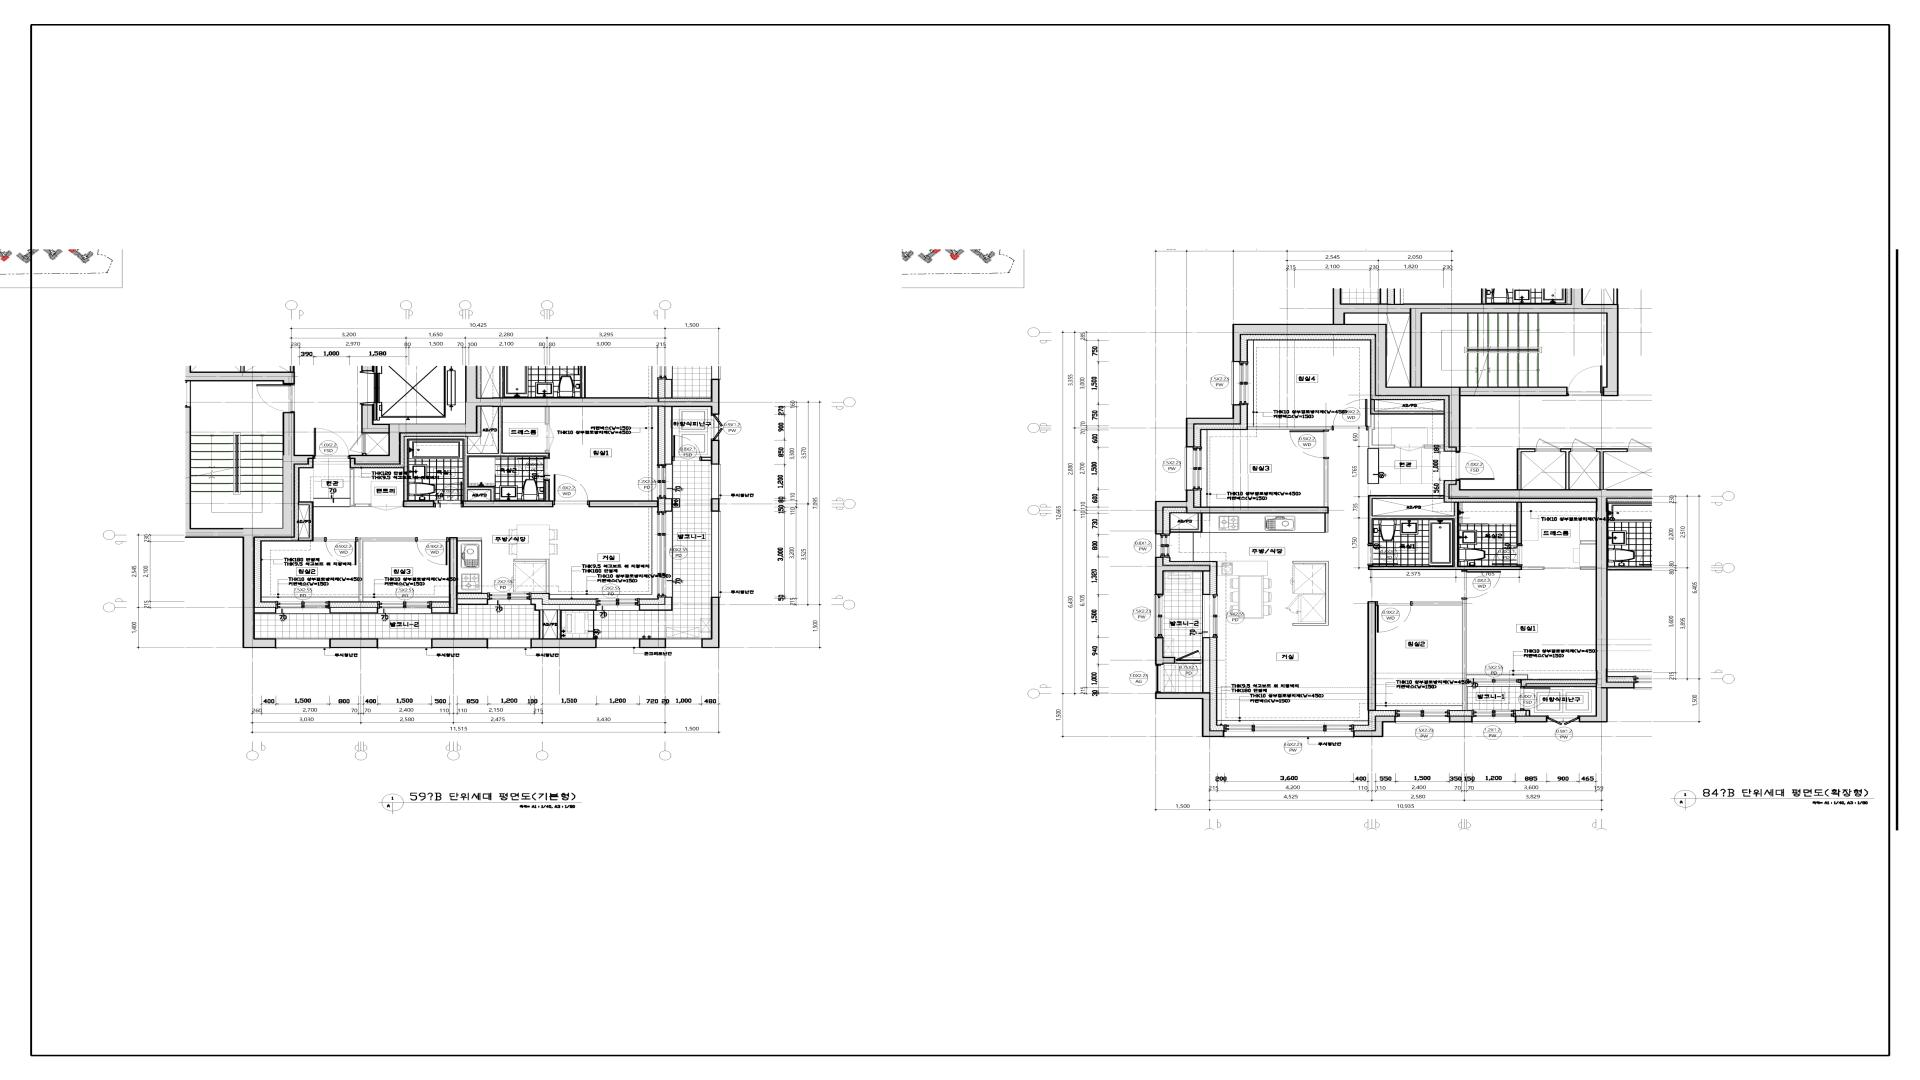door: (1461, 570, 1502, 600), (1288, 430, 1329, 459), (1332, 398, 1369, 430), (256, 384, 295, 413), (1377, 601, 1412, 633), (553, 473, 588, 505), (314, 427, 349, 459), (1456, 452, 1495, 480), (1568, 365, 1602, 396), (324, 537, 359, 566), (415, 537, 448, 566), (517, 456, 550, 481), (673, 435, 702, 462), (434, 481, 463, 508), (1367, 543, 1399, 566), (1520, 687, 1551, 709), (1491, 545, 1523, 566), (349, 434, 367, 455), (1175, 650, 1201, 663), (545, 425, 555, 450), (372, 504, 402, 510)
wall: (1233, 303, 1619, 452), (1448, 480, 1607, 723), (349, 365, 720, 464), (185, 413, 314, 649), (404, 407, 554, 508), (1367, 495, 1544, 570), (1155, 491, 1329, 534), (1412, 600, 1466, 711), (431, 538, 488, 615), (1369, 400, 1444, 448), (359, 538, 415, 601), (1155, 692, 1224, 737), (531, 599, 596, 638), (1292, 560, 1329, 626), (1185, 405, 1241, 447), (1155, 556, 1211, 595), (513, 559, 550, 593), (298, 501, 324, 542), (1367, 601, 1377, 711), (702, 597, 720, 647), (1354, 716, 1395, 737), (349, 468, 372, 506), (531, 638, 596, 649), (1171, 513, 1203, 533), (433, 638, 487, 649), (1155, 638, 1175, 665), (588, 501, 658, 508), (665, 407, 673, 464), (330, 638, 377, 647), (640, 597, 673, 611), (1203, 638, 1211, 692), (1247, 426, 1332, 430), (330, 607, 377, 613), (640, 638, 666, 649), (1526, 683, 1596, 687), (711, 440, 720, 464), (1516, 716, 1547, 723), (1324, 459, 1328, 506), (1203, 571, 1211, 595), (1518, 502, 1522, 545), (1449, 716, 1472, 723), (255, 607, 276, 613), (711, 498, 720, 510), (665, 498, 673, 512), (545, 407, 550, 425), (1424, 444, 1444, 448), (1580, 541, 1596, 545), (1325, 513, 1328, 533), (702, 456, 711, 462), (1580, 567, 1596, 570), (1526, 709, 1531, 716)
window: (1224, 724, 1354, 738), (657, 512, 673, 597), (711, 512, 721, 597), (1184, 447, 1203, 491), (1232, 361, 1249, 405), (1395, 709, 1449, 723), (1203, 595, 1218, 638), (1472, 709, 1516, 724), (276, 601, 330, 613), (377, 601, 431, 613), (377, 638, 433, 649), (488, 592, 531, 605), (276, 638, 330, 649), (657, 464, 673, 498), (596, 599, 640, 611), (487, 638, 531, 649), (1154, 595, 1164, 638), (1466, 679, 1522, 687), (596, 638, 640, 647), (711, 464, 721, 498), (711, 414, 724, 440), (1155, 534, 1170, 558), (1547, 715, 1578, 725), (666, 638, 702, 647), (1155, 665, 1163, 692)
